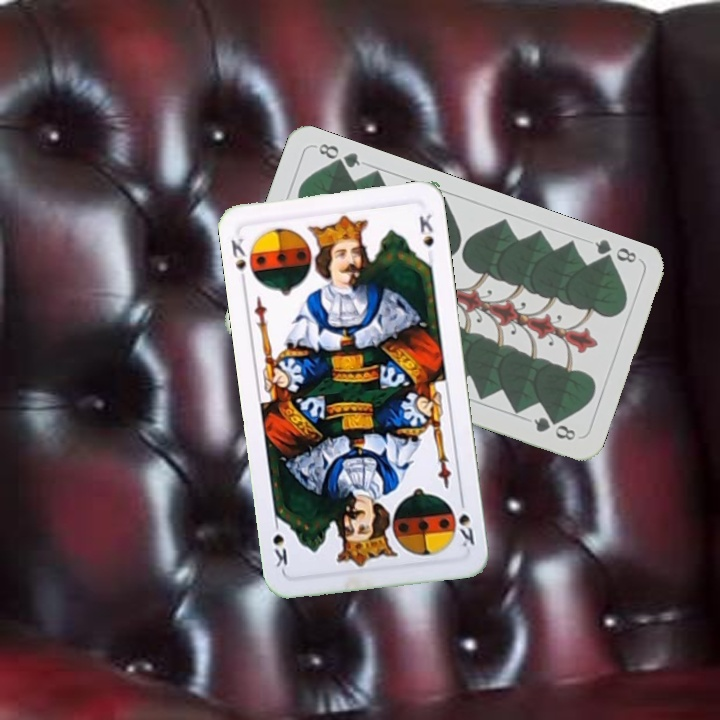G8: (590, 235, 639, 269)
SK: (455, 492, 477, 550), (227, 234, 249, 288)
